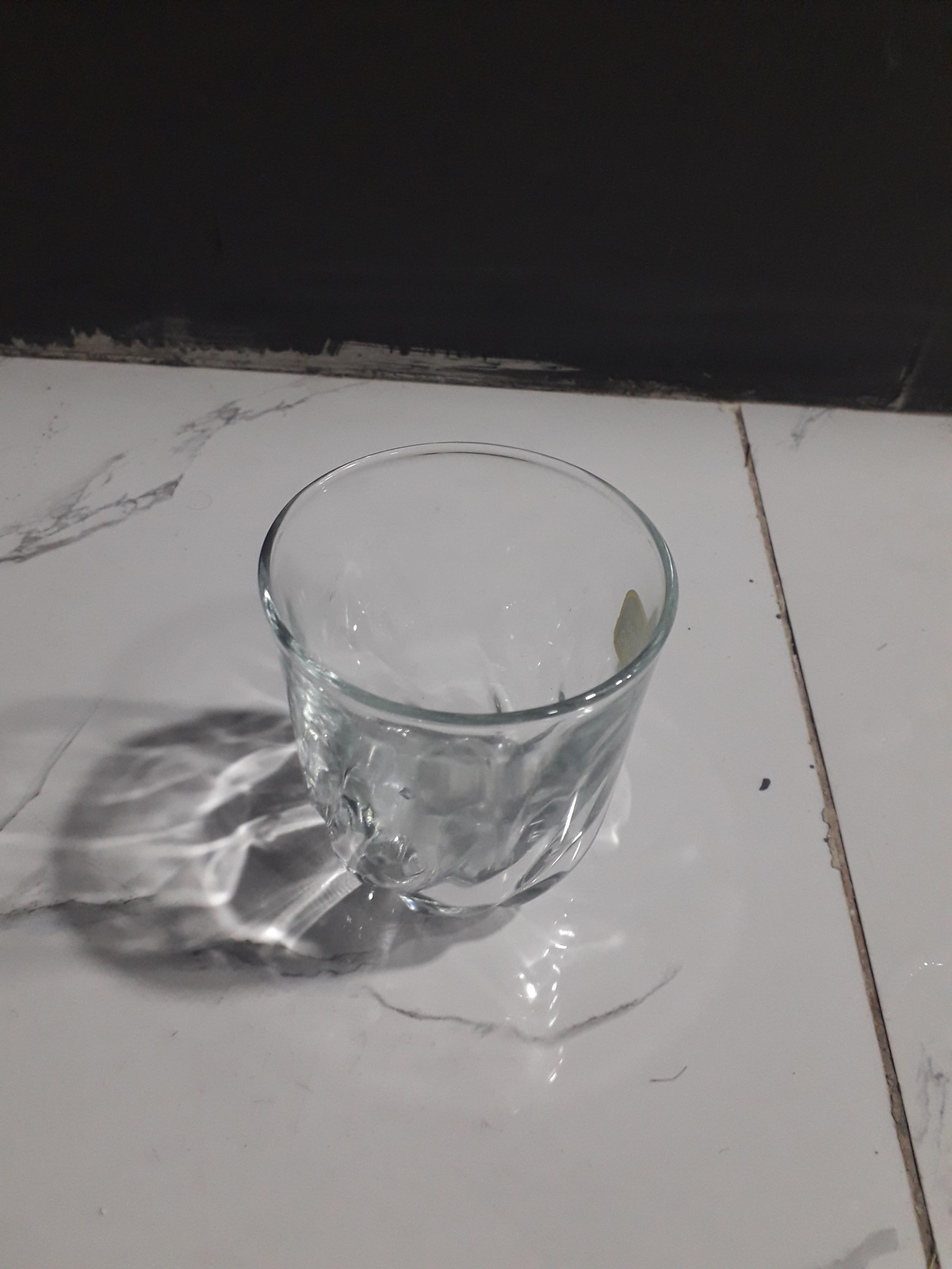glass-normal: (256, 432, 674, 933)
